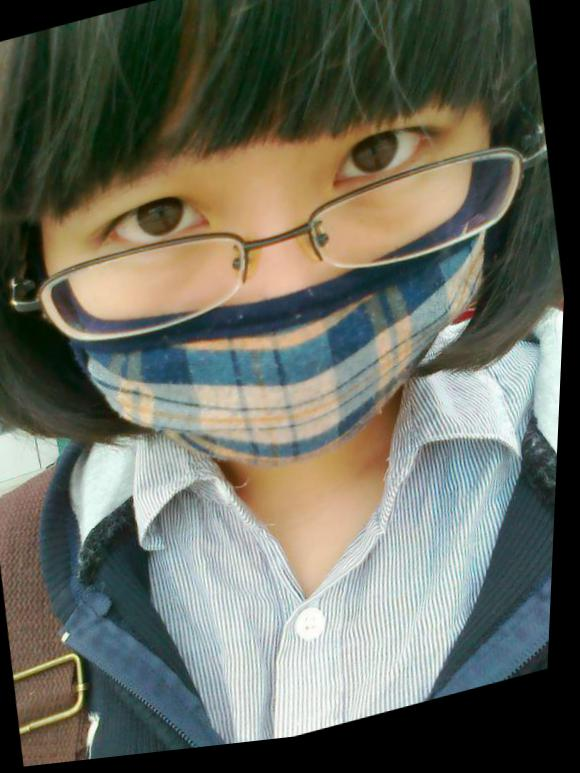WRONG: (47, 61, 523, 525)
